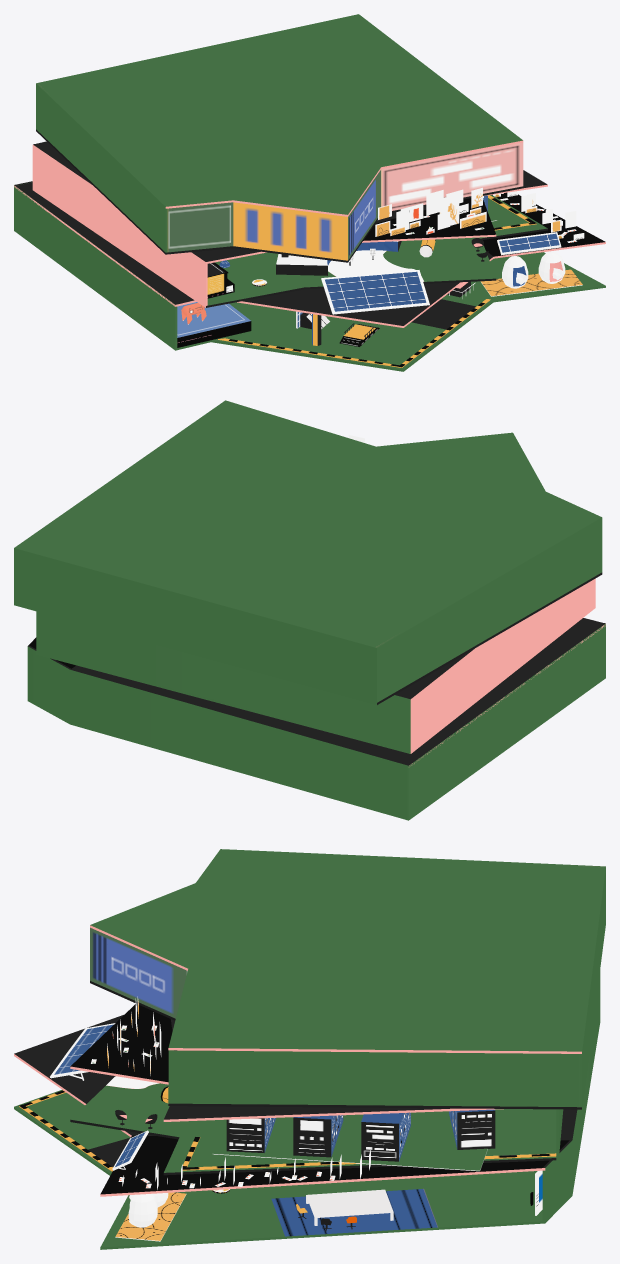
Rendered from 谷歌大楼.fbx.
3 views of the same model, one above another, from view 1: azimuth 30°, elevation 25°; view 2: azimuth 150°, elevation 25°; view 3: azimuth 270°, elevation 25° (orthographic). The views are drawn at different scales.
Parts seen in each view (by area): view 1: 挤压_2_2, 平面_3, 平面_1, 太阳能_大, 平面_3_2, CC, 平面_2_2, 挤压_2, 挤压, 立方体_4_2, 平面_2, 太阳能_小 (+5 smaller); view 2: 挤压_2_2; view 3: 挤压_2_2, 平面_4, 立方体_4_3, 平面_2_2, 平面, 立方体_2_8, 立方体_2_3, 立方体_1_7, jixiang, 立方体_7_2, 立方体_4_2, 太阳能_大 (+4 smaller).
Boxes of the visible parts, x1,y1,x2,y2 form: 挤压_2_2: (14, 14, 605, 371); 平面_3: (381, 142, 523, 210); 平面_1: (233, 202, 347, 260); 太阳能_大: (321, 270, 429, 314); 平面_3_2: (167, 202, 233, 252); CC: (177, 302, 251, 347); 平面_2_2: (348, 169, 381, 260); 挤压_2: (276, 241, 401, 275); 挤压: (328, 250, 423, 281); 立方体_4_2: (480, 269, 582, 296); 平面_2: (411, 299, 475, 329); 太阳能_小: (497, 232, 561, 255); 挤压_2_2: (14, 400, 605, 820); 挤压_2_2: (14, 849, 605, 1249); 平面_4: (168, 1050, 579, 1106); 立方体_4_3: (212, 1117, 487, 1171); 平面_2_2: (90, 927, 187, 1018); 平面: (271, 1188, 437, 1236); 立方体_2_8: (361, 1112, 410, 1161); 立方体_2_3: (306, 1189, 393, 1225); 立方体_1_7: (293, 1115, 343, 1157); jixiang: (449, 1109, 495, 1149); 立方体_7_2: (226, 1118, 275, 1152); 立方体_4_2: (115, 1192, 186, 1241); 太阳能_大: (50, 1023, 115, 1080).
Bounding box in the file's own units: 3121 × 1068 × 3379.
